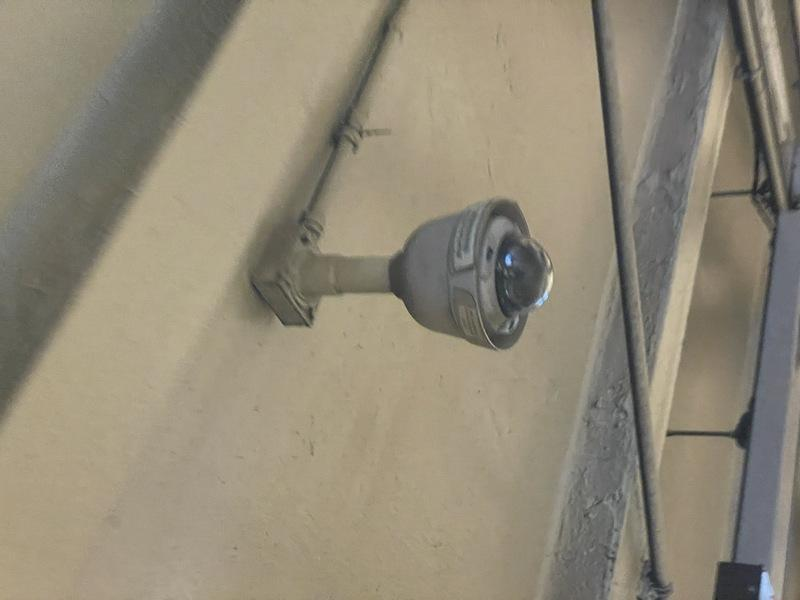dome: (256, 468, 395, 565)
